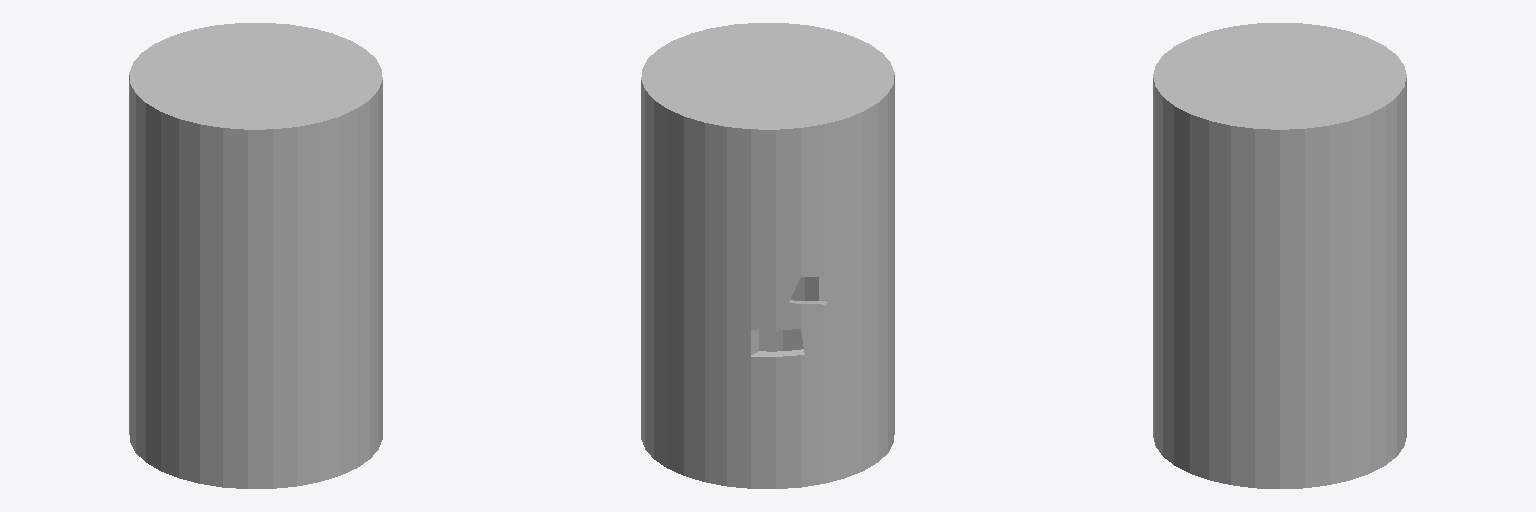
Rendered from track 3_tower.obj.
3 views of the same model, side by side, from view 1: azimuth 30°, elevation 25°; view 2: azimuth 150°, elevation 25°; view 3: azimuth 270°, elevation 25° (orthographic).
Parts seen in each view (by area): view 1: Cylinder.002_Cylinder.003; view 2: Cylinder.002_Cylinder.003; view 3: Cylinder.002_Cylinder.003.
Part boxes in pixels (x1,y1,x2,y2): Cylinder.002_Cylinder.003: (129,23,382,488); Cylinder.002_Cylinder.003: (641,23,894,488); Cylinder.002_Cylinder.003: (1153,23,1406,488).
Size of the model in its own units: 200 by 313 by 200.